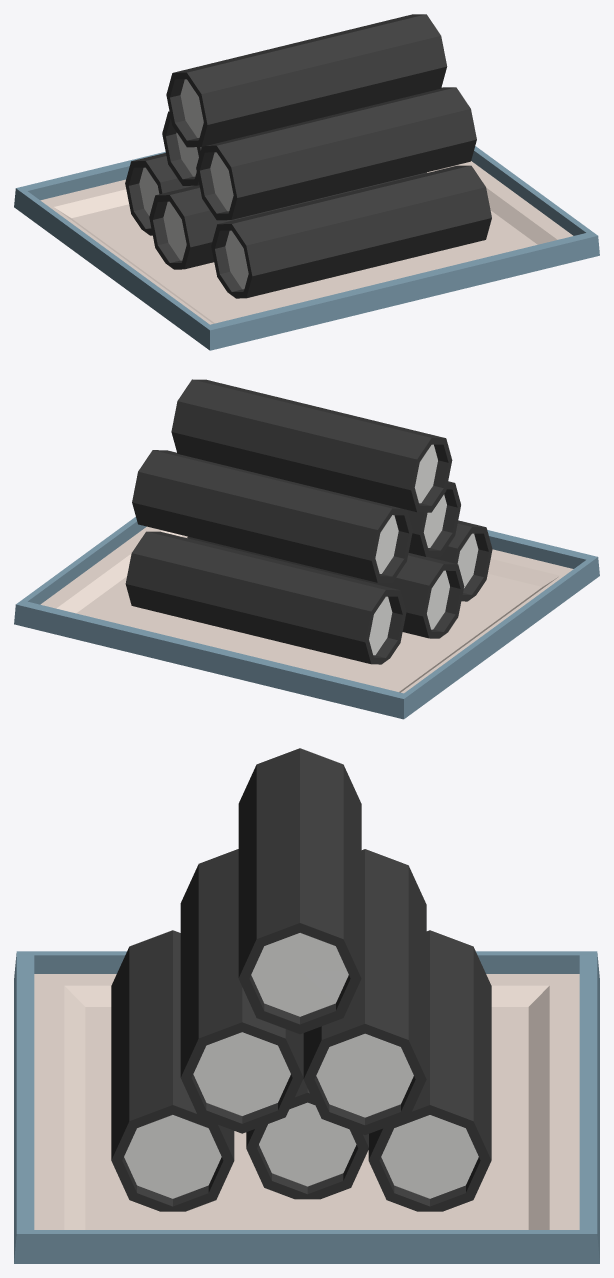
Rendered from Plate_with_rice_tubes.fbx.
3 views of the same model, one above another, from view 1: azimuth 30°, elevation 25°; view 2: azimuth 150°, elevation 25°; view 3: azimuth 270°, elevation 25° (orthographic). The views are drawn at different scales.
Parts seen in each view (by area): view 1: Plate_with_rice_tubes; view 2: Plate_with_rice_tubes; view 3: Plate_with_rice_tubes.
Part boxes in pixels (<box>): Plate_with_rice_tubes: <box>14,14,599,350</box>; Plate_with_rice_tubes: <box>14,379,599,719</box>; Plate_with_rice_tubes: <box>14,748,599,1263</box>.
Size of the model in its own units: 31.79 by 27.7 by 15.83.
